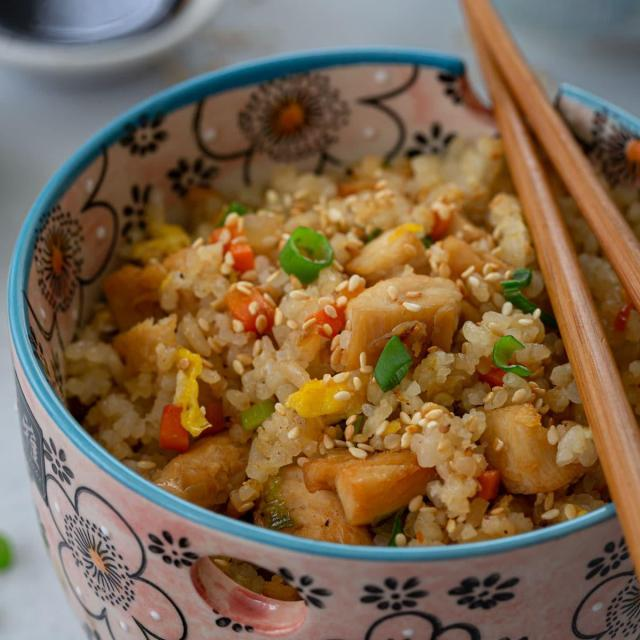Nasi Goreng: (63, 136, 638, 546)
